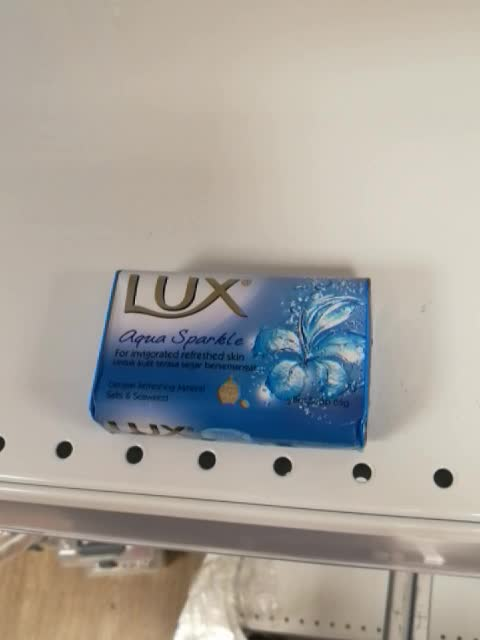soap: (87, 266, 374, 452)
